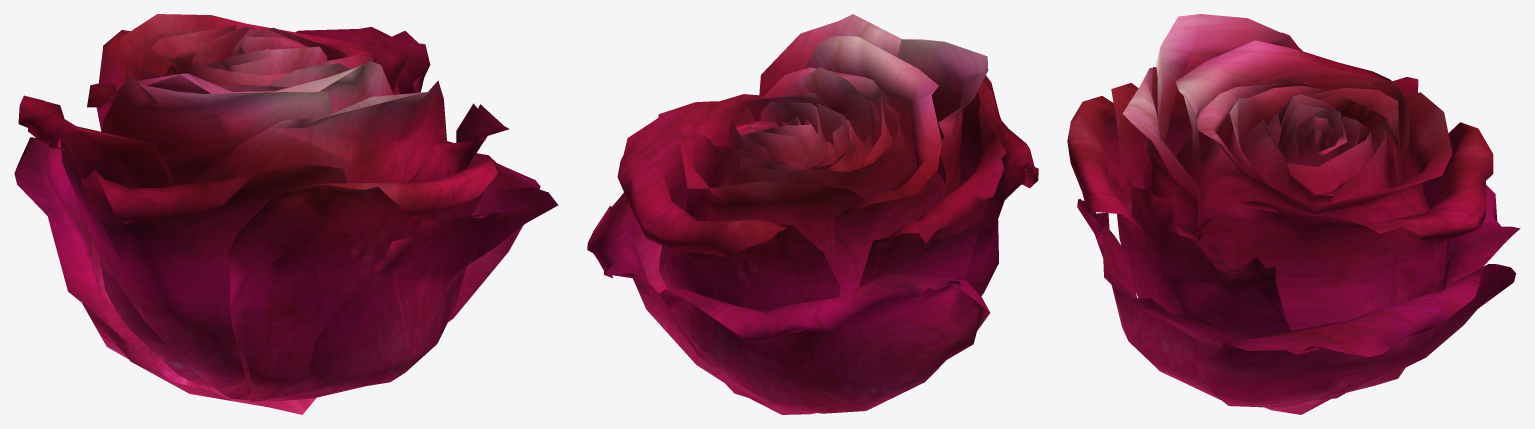
The model's file is rose.obj.
3 renders of one model, left to right at view 1: azimuth 30°, elevation 25°; view 2: azimuth 150°, elevation 25°; view 3: azimuth 270°, elevation 25°, orthographic. The views are drawn at different scales.
Parts seen in each view (by area): view 1: Obj3d66_530401_1_466; view 2: Obj3d66_530401_1_466; view 3: Obj3d66_530401_1_466.
Part boxes in pixels (box(x1,y1,x2,y2)): Obj3d66_530401_1_466: box(14, 14, 558, 414); Obj3d66_530401_1_466: box(587, 14, 1038, 414); Obj3d66_530401_1_466: box(1067, 14, 1520, 414).
Bounding box in the file's own units: 2.86 × 2.25 × 2.86.
